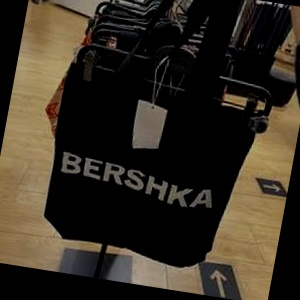bershka: (177, 79, 265, 256)
